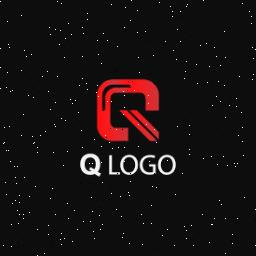g: (140, 154, 156, 178)
l: (108, 154, 120, 176)
o: (120, 154, 138, 176)
q: (93, 76, 163, 144), (78, 151, 104, 179)
